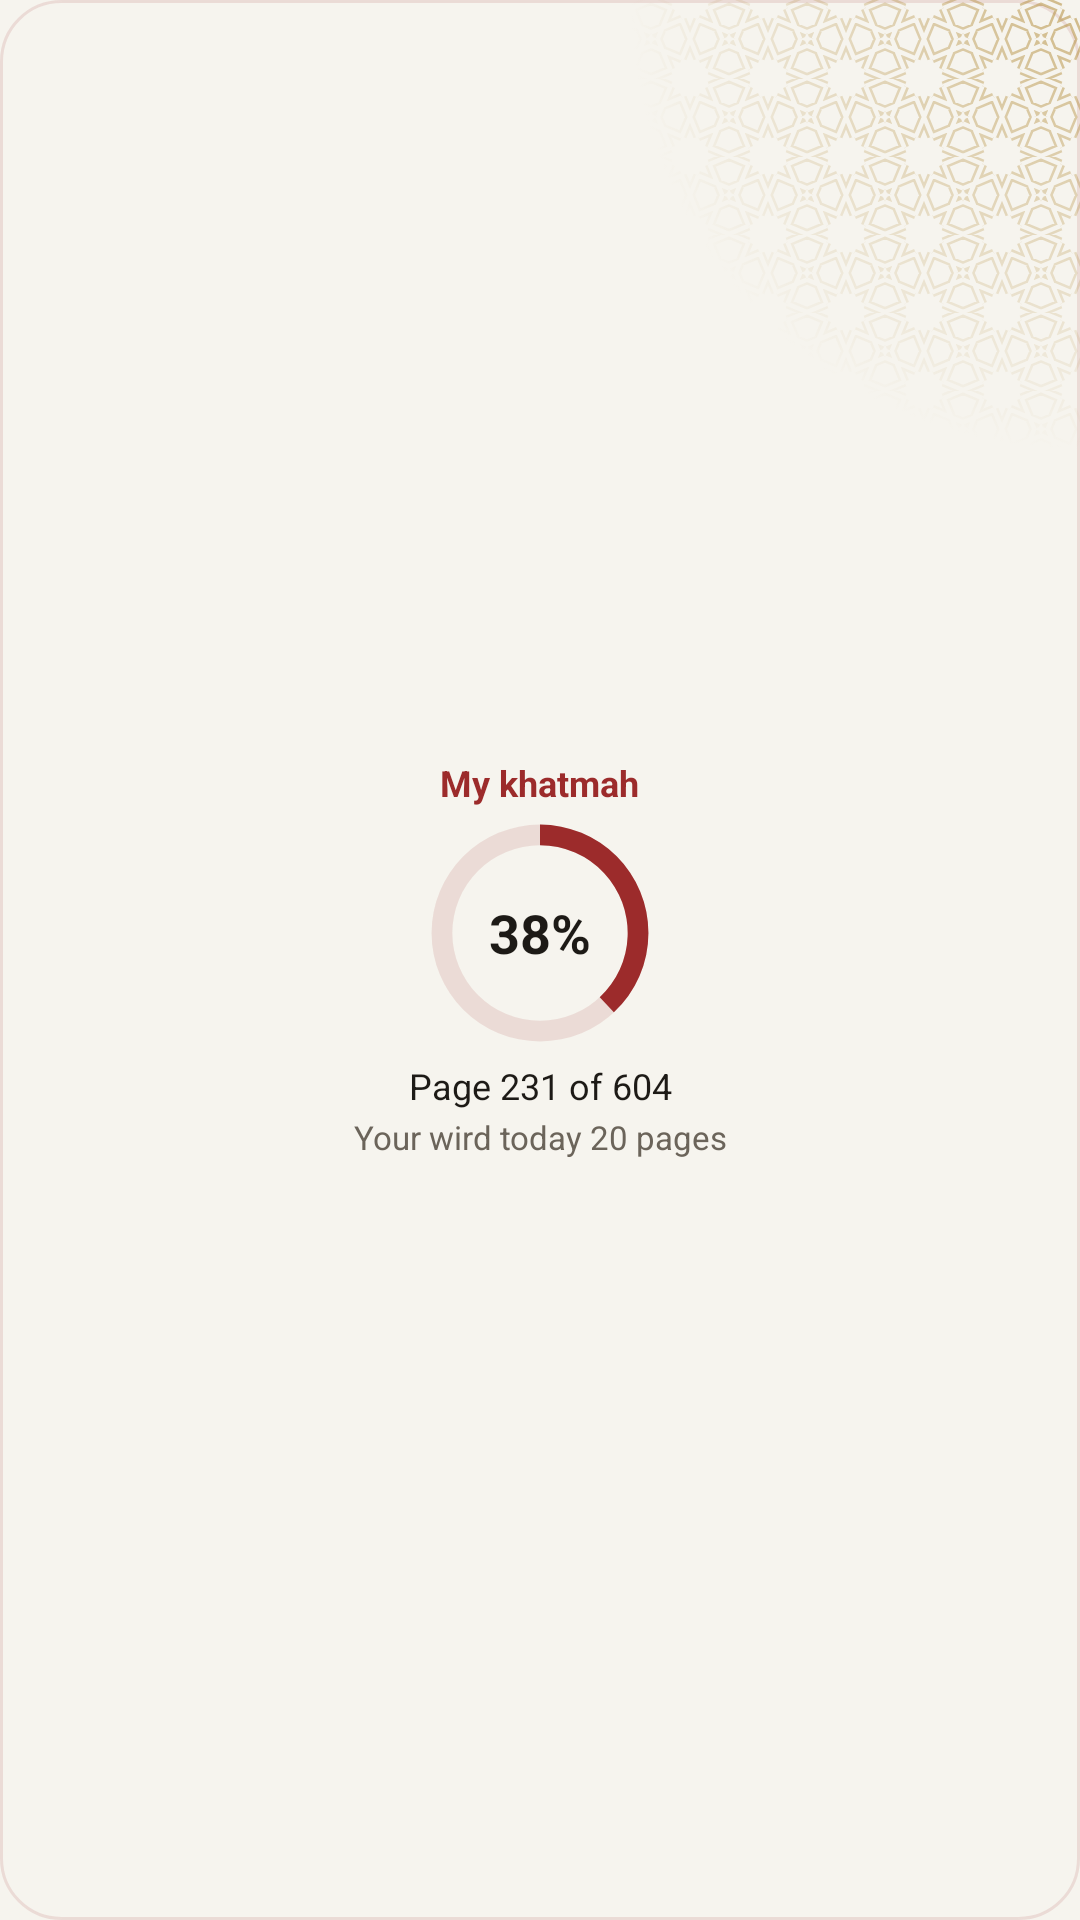

Icons on this 1080*1920 Android screen, each with the point to tap as point (x, y):
widget orn band: point (908, 171)
